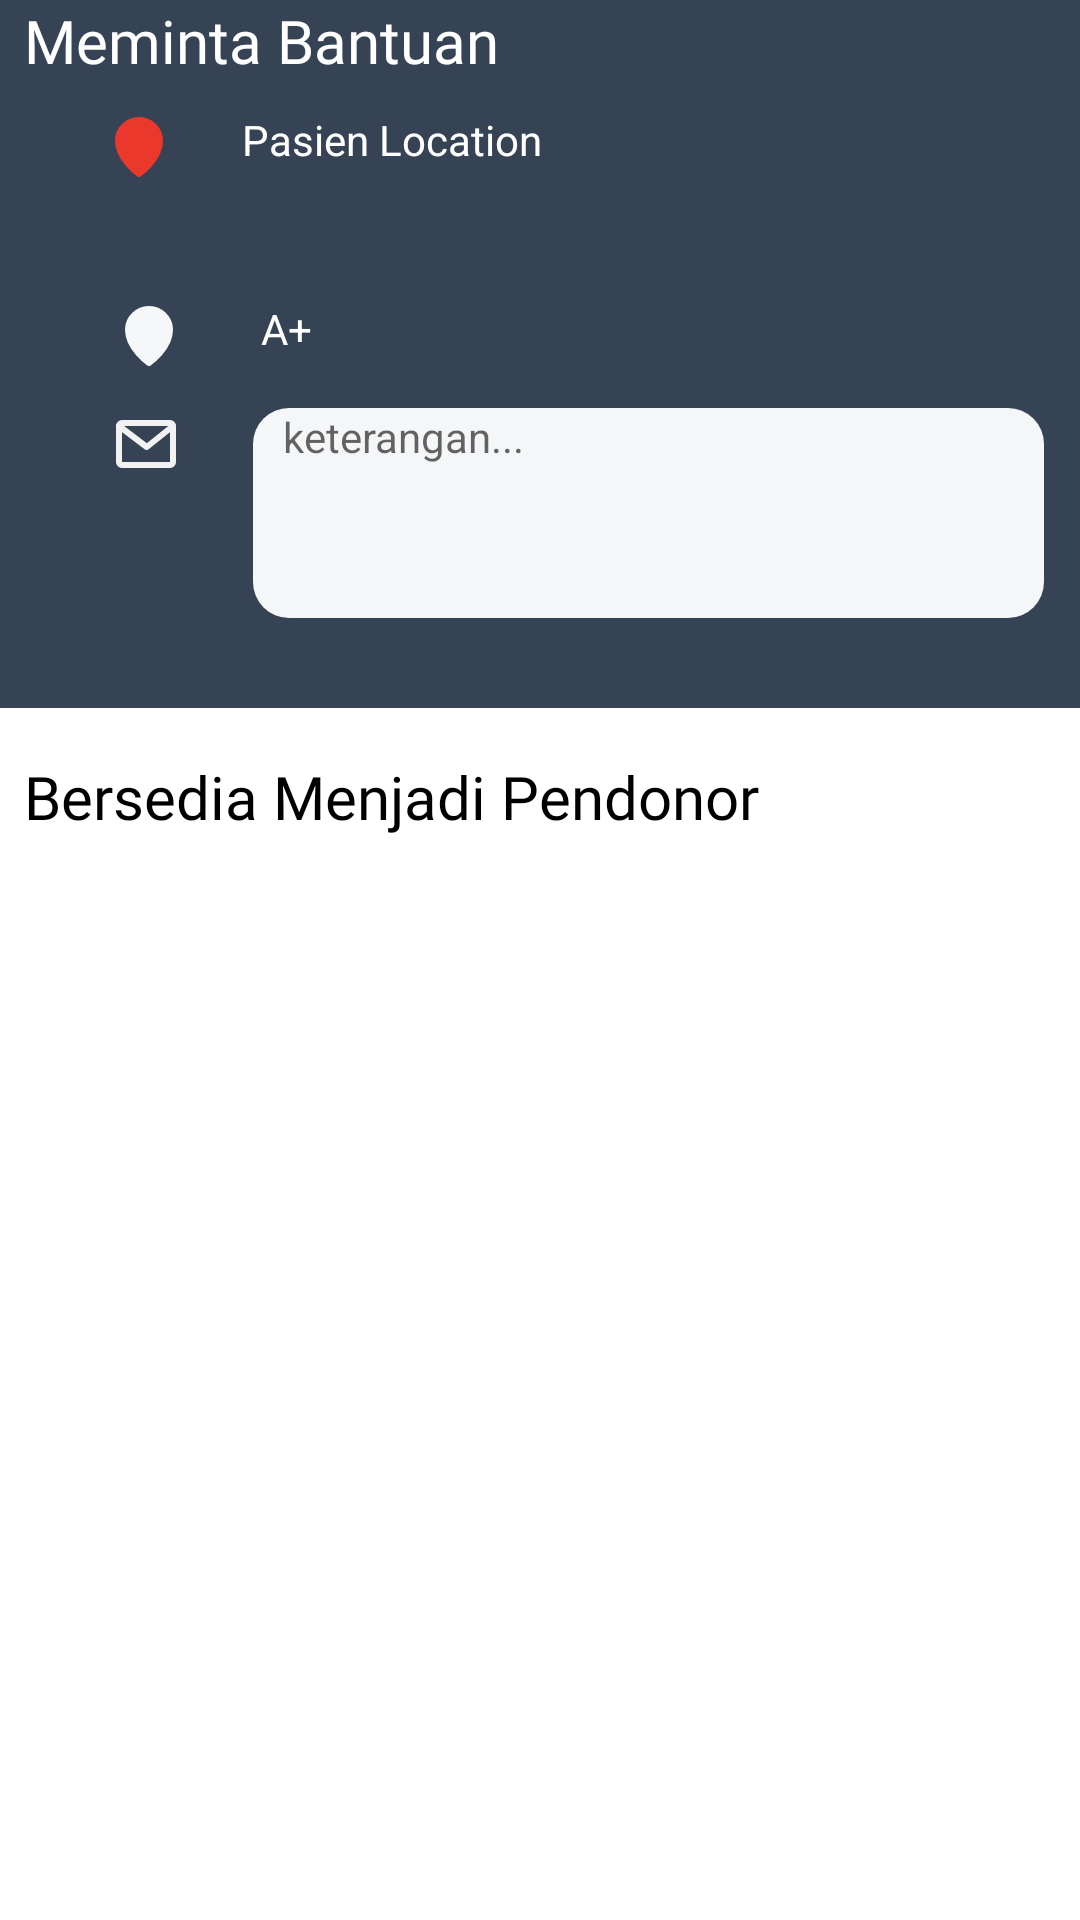

Locate icon controls on the screen. Image size 1080×1920, boxes as (x1=x1, y1=y1, x2=x2, y2=y2).
mail: (x1=116, y1=420, x2=176, y2=468)
map pin: (x1=115, y1=117, x2=163, y2=177)
